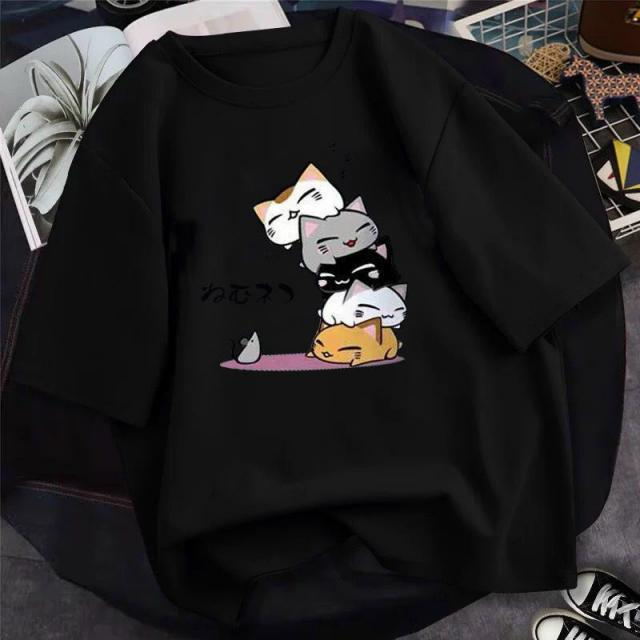Shirt: (0, 0, 629, 639)
